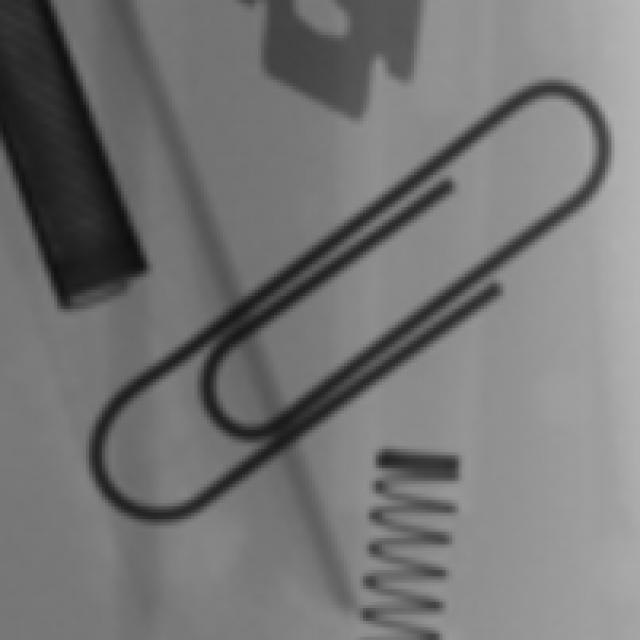GUN: (202, 5, 445, 148)
